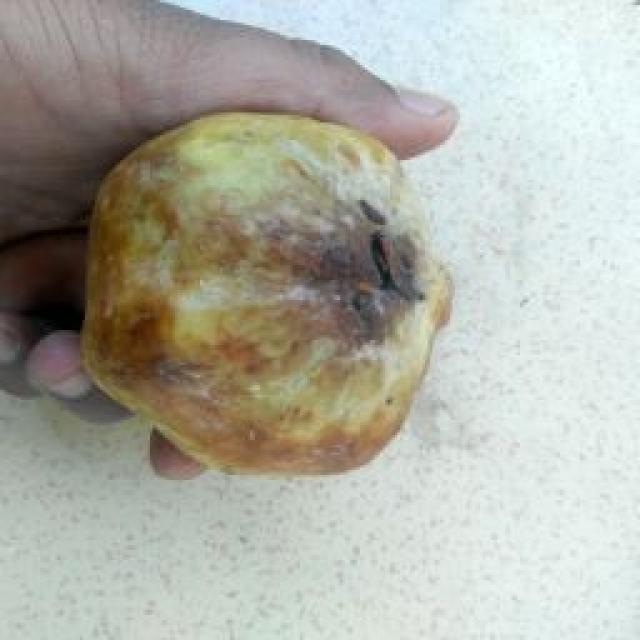Bad_Guava: (85, 114, 450, 472)
